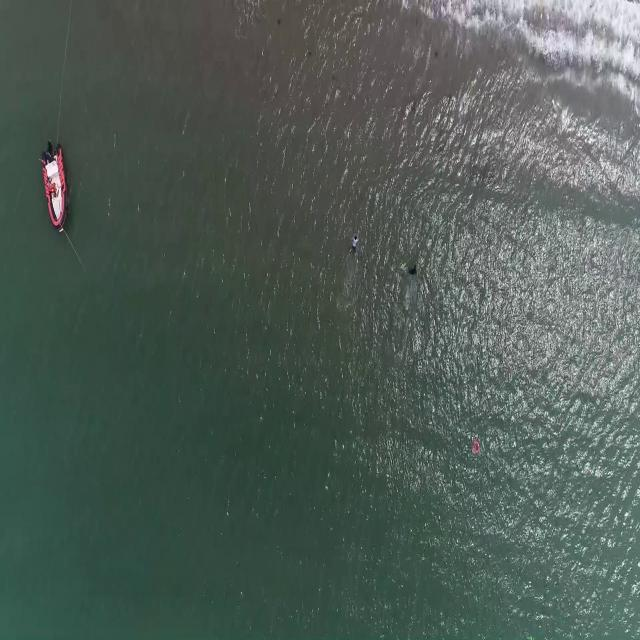boat: (39, 143, 69, 231)
life_buoy: (473, 440, 481, 454)
person: (349, 228, 362, 256), (409, 259, 418, 279)
